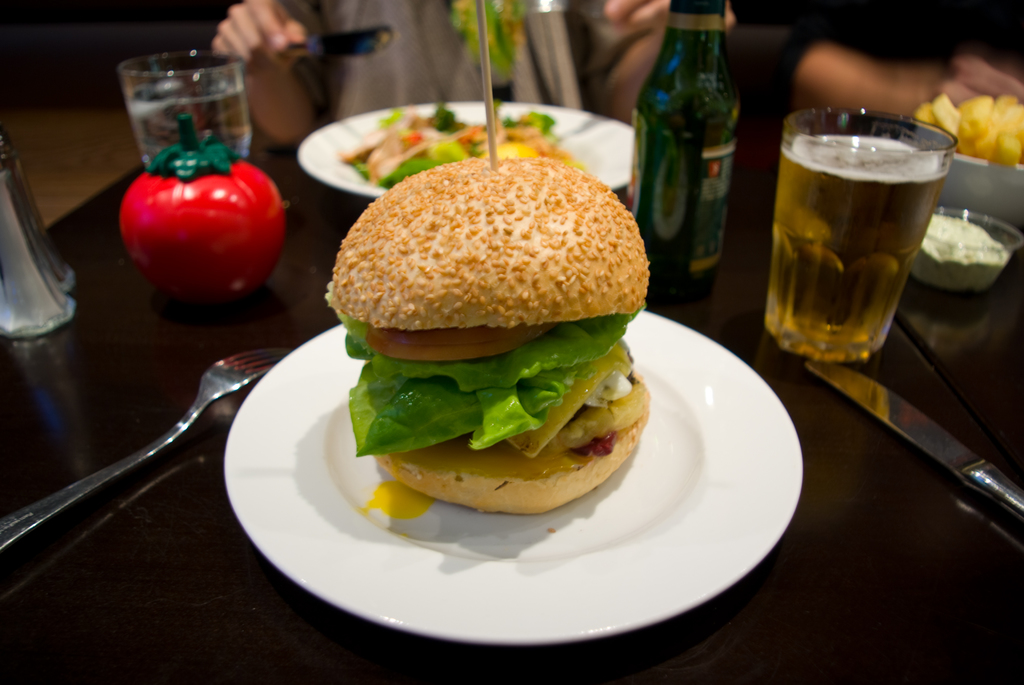Hamburger: (324, 150, 651, 512)
